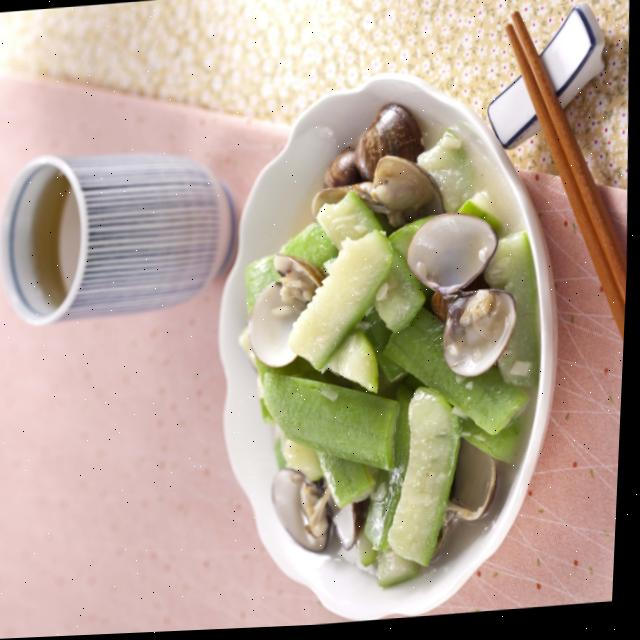Wet: (249, 181, 542, 572)
